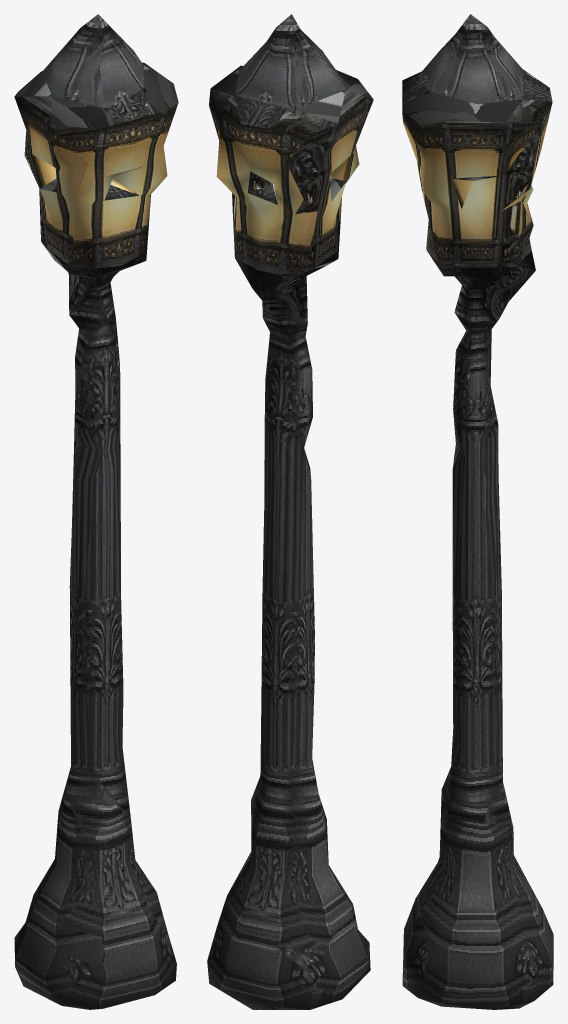
File: lamppost_med.glb
The picture shows the model from 3 angles, left to right: view 1: azimuth 30°, elevation 25°; view 2: azimuth 150°, elevation 25°; view 3: azimuth 270°, elevation 25°; orthographic projection.
Parts seen in each view (by area): view 1: lamppost_med; view 2: lamppost_med; view 3: lamppost_med.
Boxes of the visible parts, box(x1,y1,x2,y2) form: lamppost_med: box(14, 14, 178, 1009); lamppost_med: box(207, 14, 373, 1009); lamppost_med: box(402, 14, 553, 1009).
Bounding box in the file's own units: 0.4634 × 3.26 × 0.4561.
Materials: 1 (1 with a texture image).
